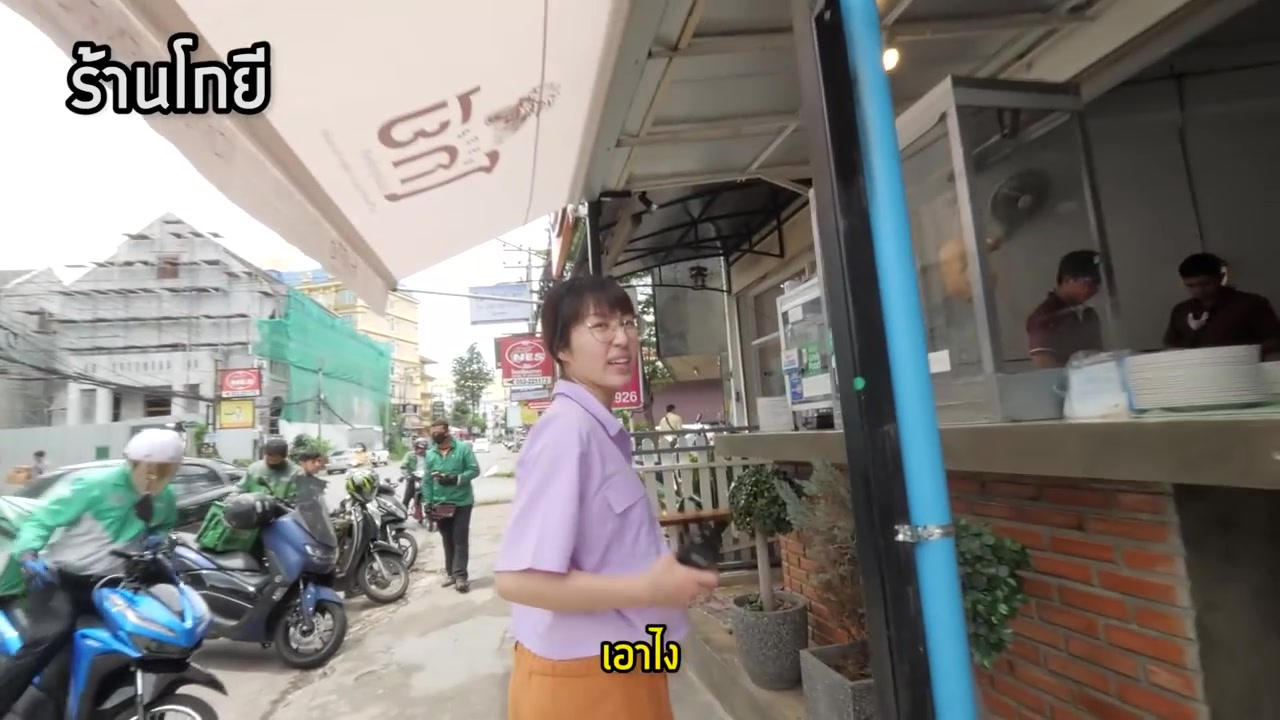text-label: (61, 31, 278, 123), (599, 623, 683, 676)
